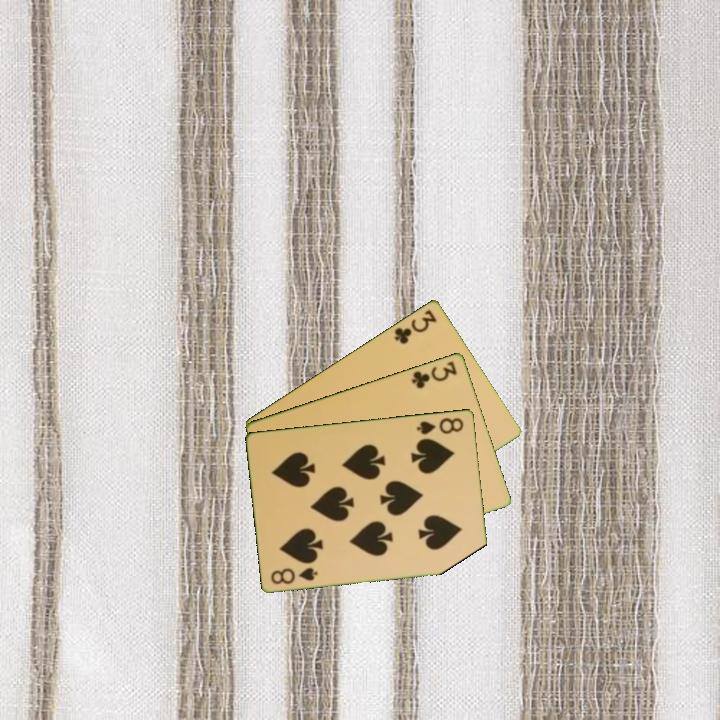3c: (390, 306, 440, 347), (408, 357, 460, 391)
8s: (267, 563, 321, 587), (414, 414, 467, 437)
